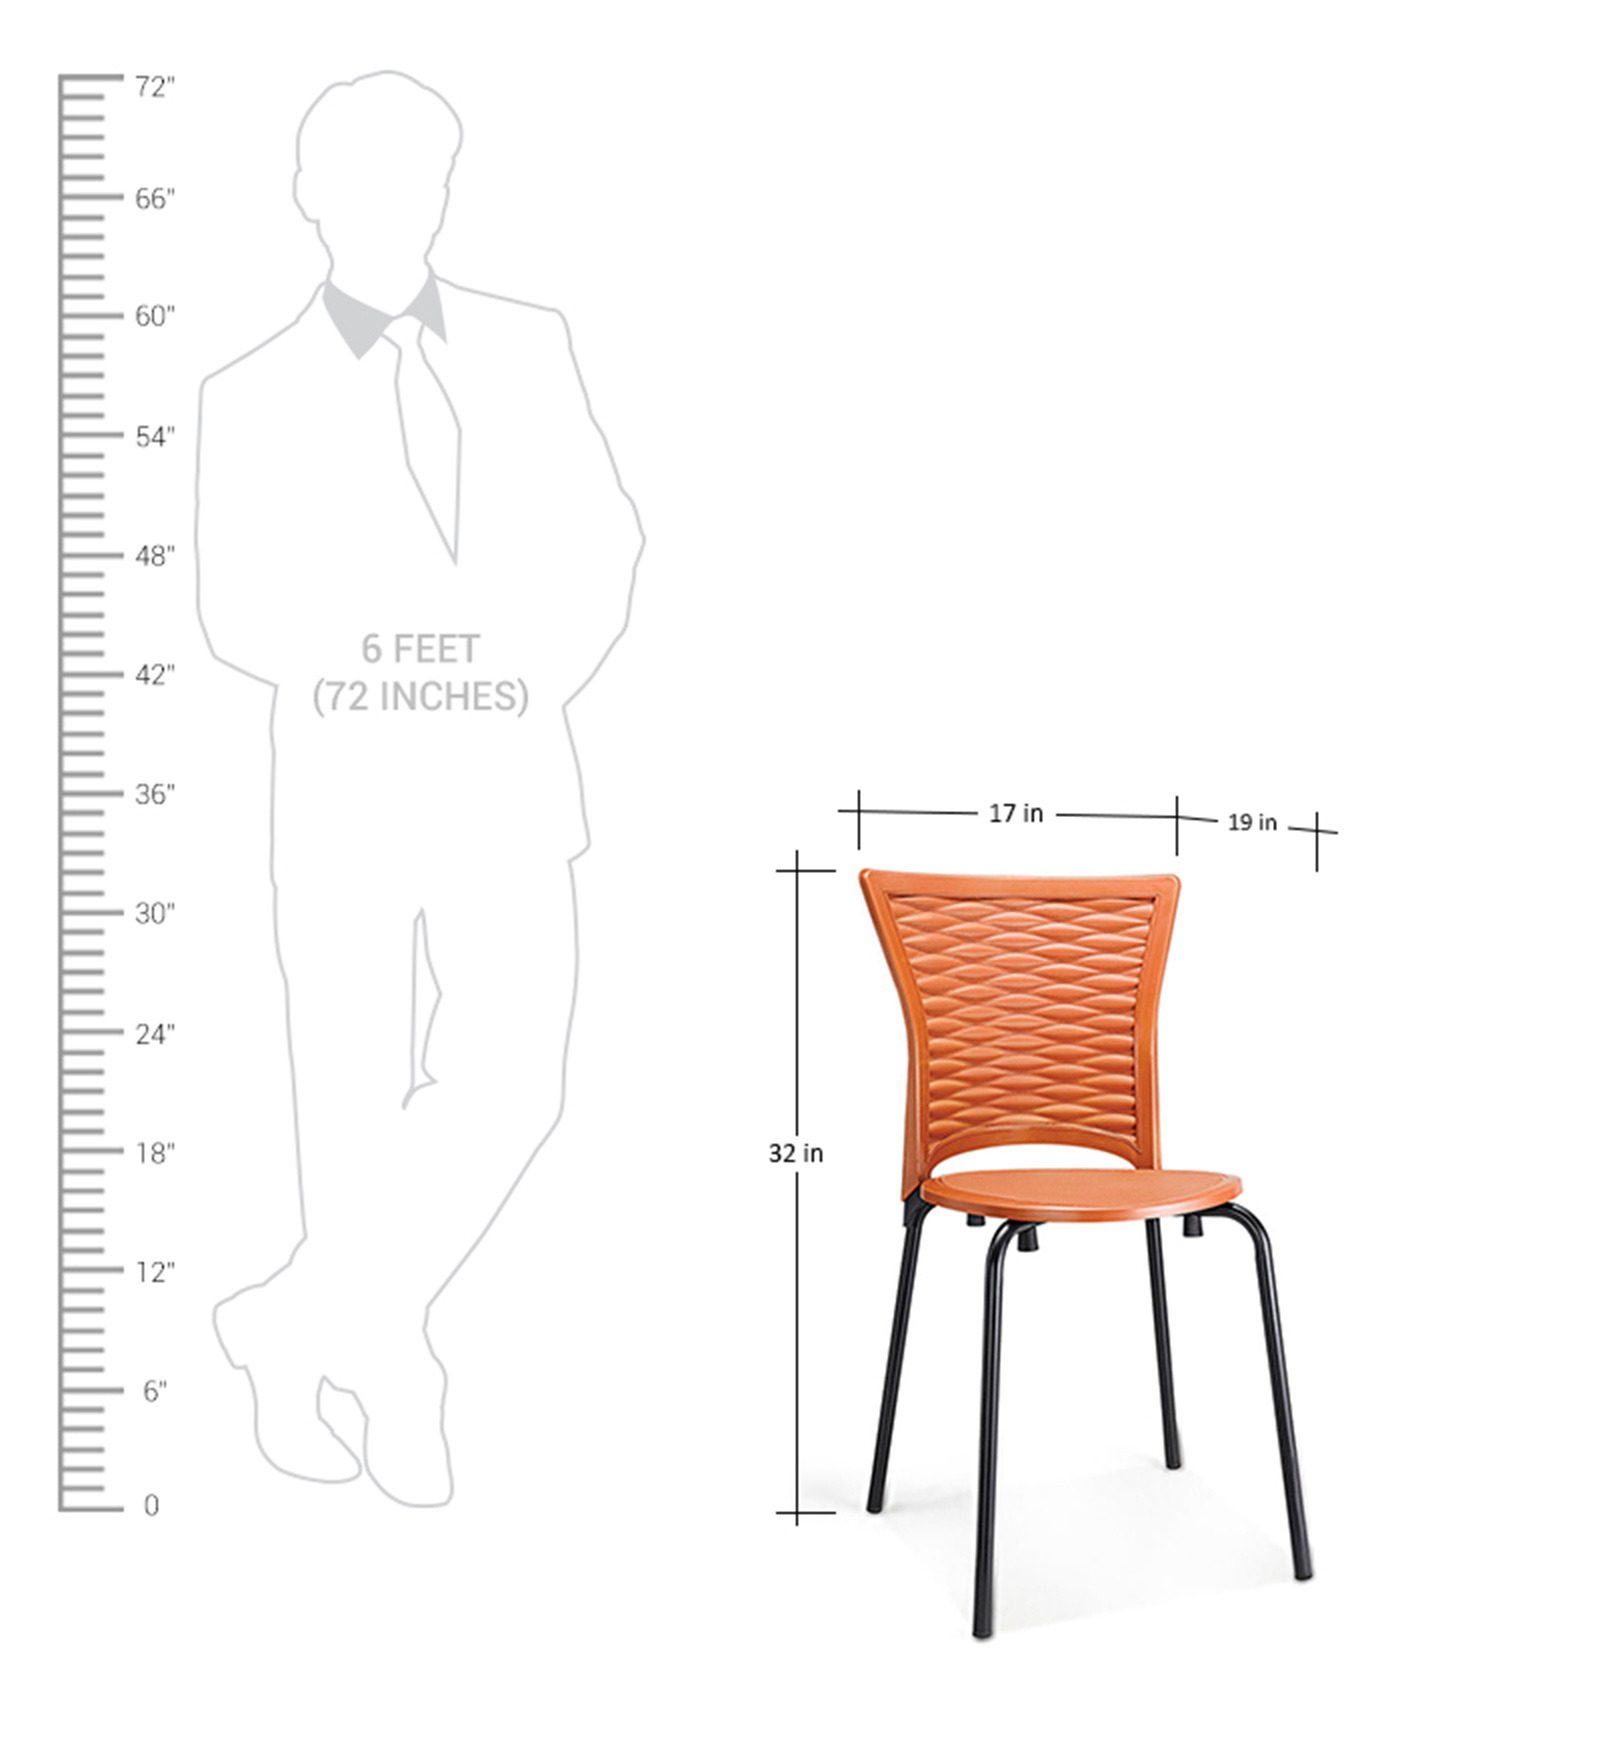Novella Chair in Rust Colour by Nilkamal: (852, 859, 1329, 1643)
